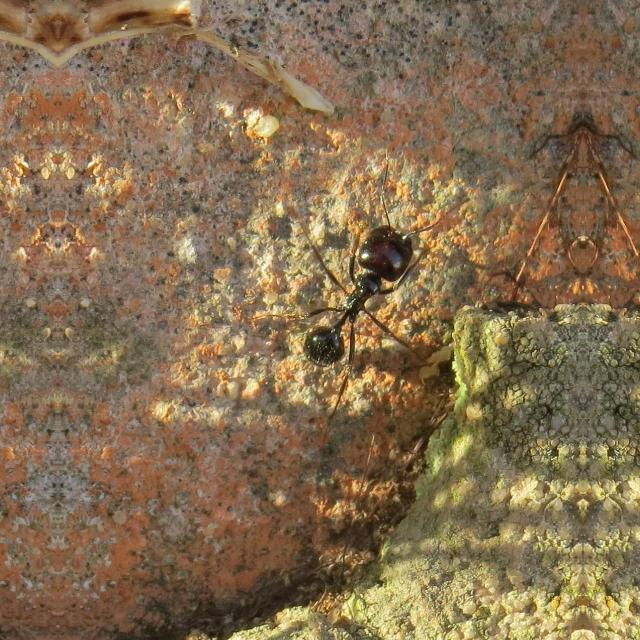Messor: (279, 205, 465, 392)
